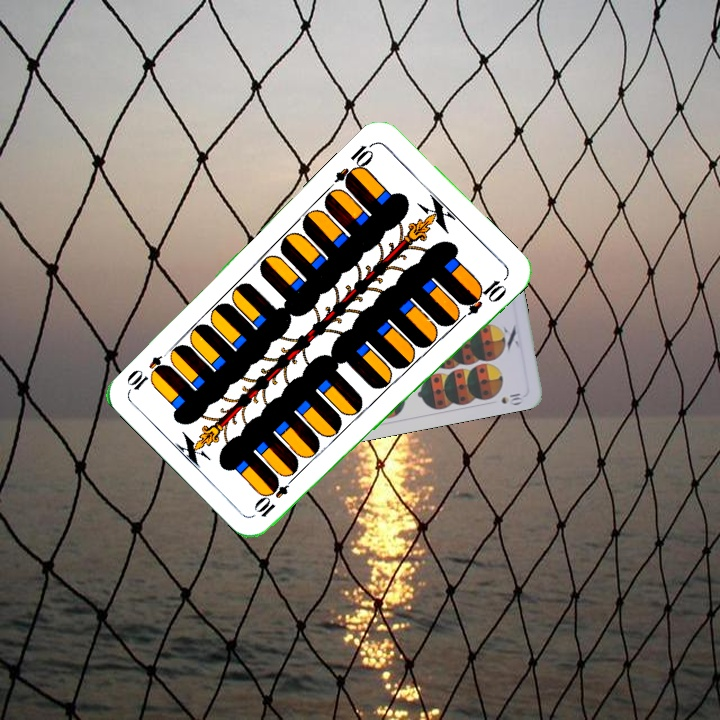E10: (331, 138, 378, 191), (251, 470, 299, 520)
